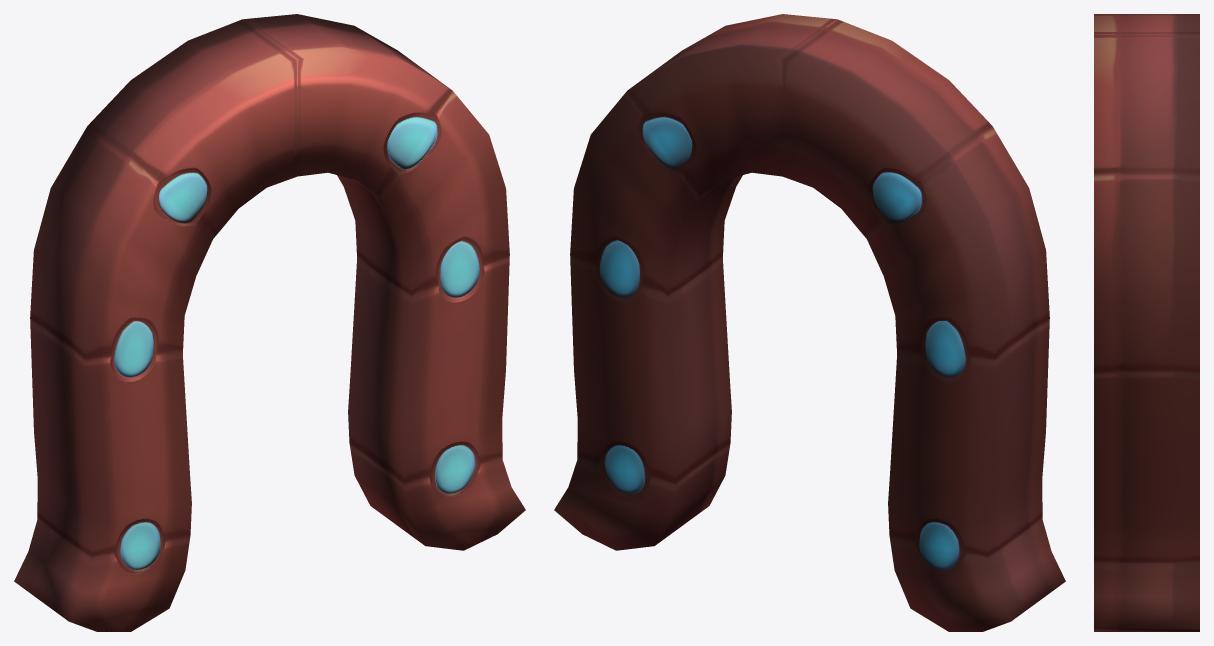
Rendered from geo_CollectibleHorseshoe.fbx.
3 renders of one model, left to right at view 1: azimuth 30°, elevation 25°; view 2: azimuth 150°, elevation 25°; view 3: azimuth 270°, elevation 25°, orthographic. The views are drawn at different scales.
Parts seen in each view (by area): view 1: geo_CollectibleHorseshoe; view 2: geo_CollectibleHorseshoe; view 3: geo_CollectibleHorseshoe.
Part boxes in pixels (<box>): geo_CollectibleHorseshoe: <box>14,14,525,631</box>; geo_CollectibleHorseshoe: <box>554,14,1065,631</box>; geo_CollectibleHorseshoe: <box>1094,14,1199,631</box>.
Size of the model in its own units: 70.53 by 78.43 by 14.68.
